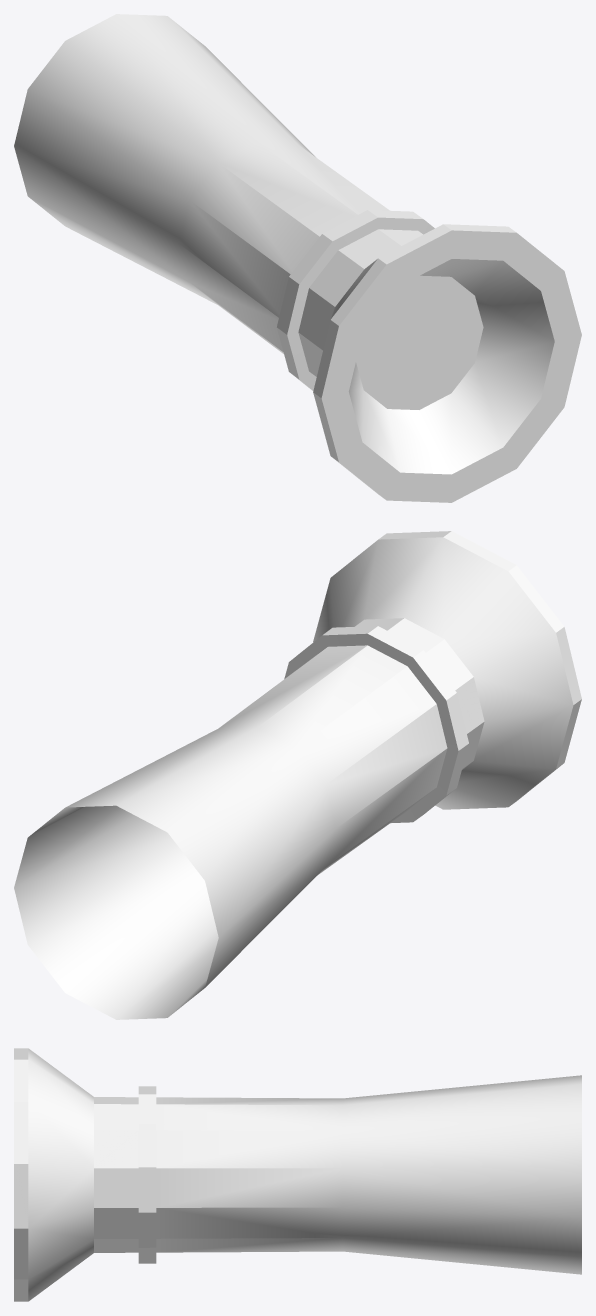
Rendered from rocketLauncher.fbx.
The picture shows the model from 3 angles, top to bottom: view 1: azimuth 30°, elevation 25°; view 2: azimuth 150°, elevation 25°; view 3: azimuth 270°, elevation 25°; orthographic projection. The views are drawn at different scales.
Visible parts, largest first — view 1: pCylinder1; view 2: pCylinder1; view 3: pCylinder1.
Boxes of the visible parts, left/top/right/bottom form: pCylinder1: left=14, top=14, right=581, bottom=502; pCylinder1: left=14, top=531, right=581, bottom=1019; pCylinder1: left=14, top=1048, right=581, bottom=1301.
Bounding box in the file's own units: 43.53 × 43.53 × 97.1.
1 material, 1 textured.
